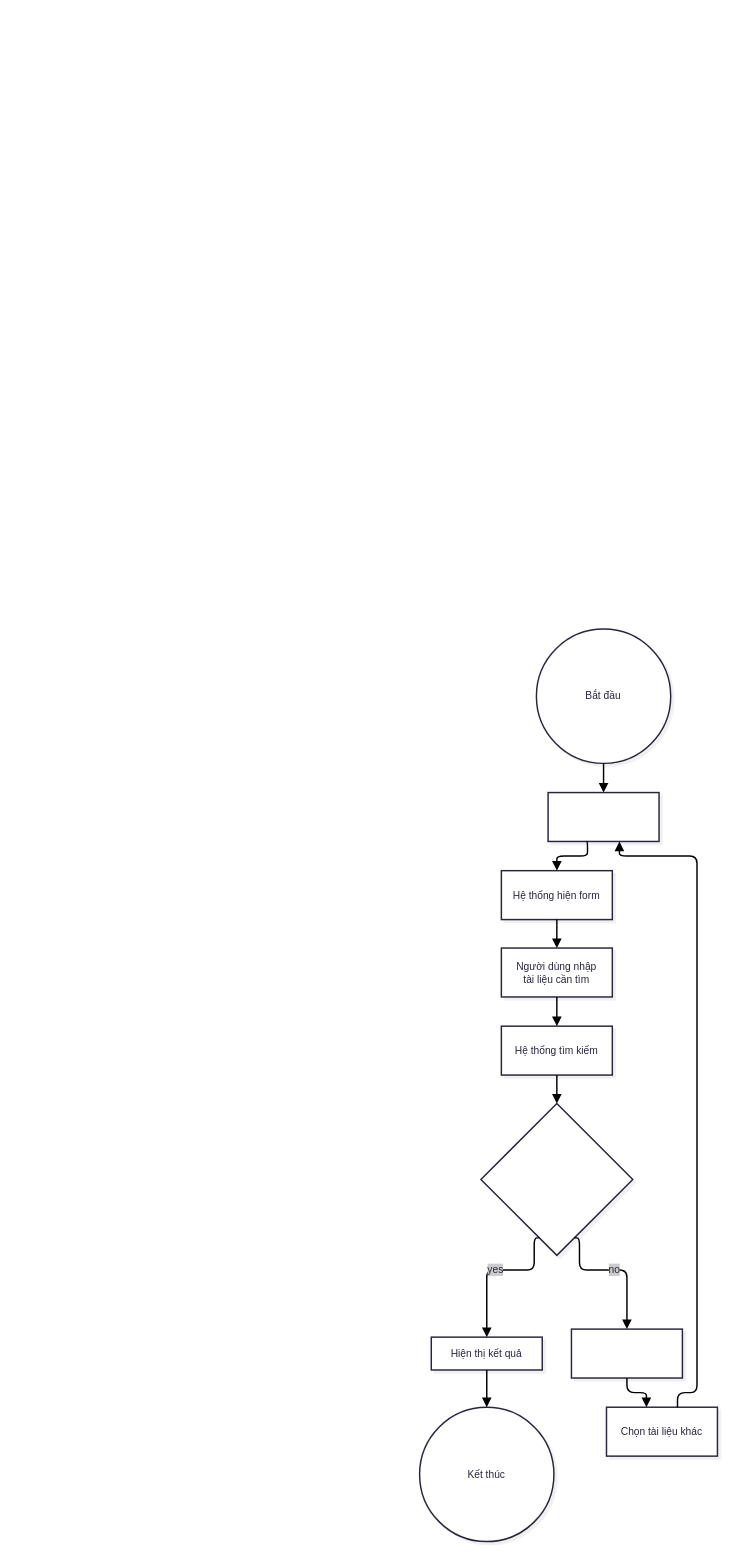
This 734x1558 diagram has some shape labels left out. Here are the shapes that lost their labels. From the top down, the centre of each, then its label:
the point at 604,818: Người dùng chọn tìm kiếm tài liệu
the point at 558,1180: Kết quả
the point at 628,1354: Không tìm thấy tài liệu
